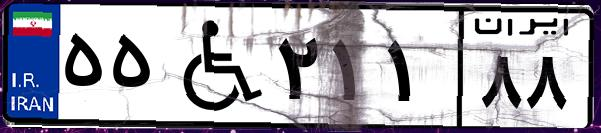1: (385, 28, 445, 110), (330, 28, 385, 110)
2: (270, 28, 330, 110)
5: (57, 26, 110, 100), (110, 28, 158, 98)
8: (475, 38, 525, 113), (525, 38, 570, 115)
ژ (معلولین و جانبازان): (158, 12, 270, 120)
